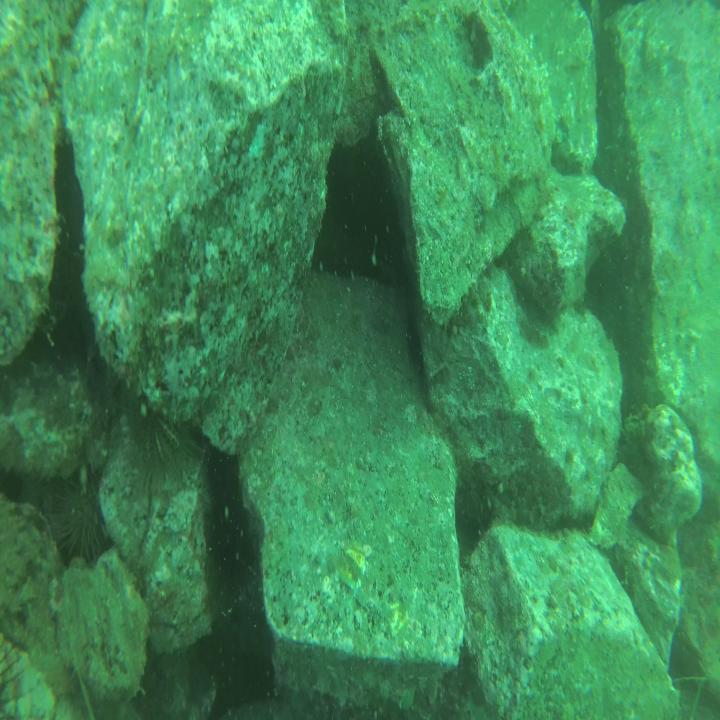echinus: (122, 398, 198, 480), (53, 468, 109, 568), (84, 356, 124, 430)
